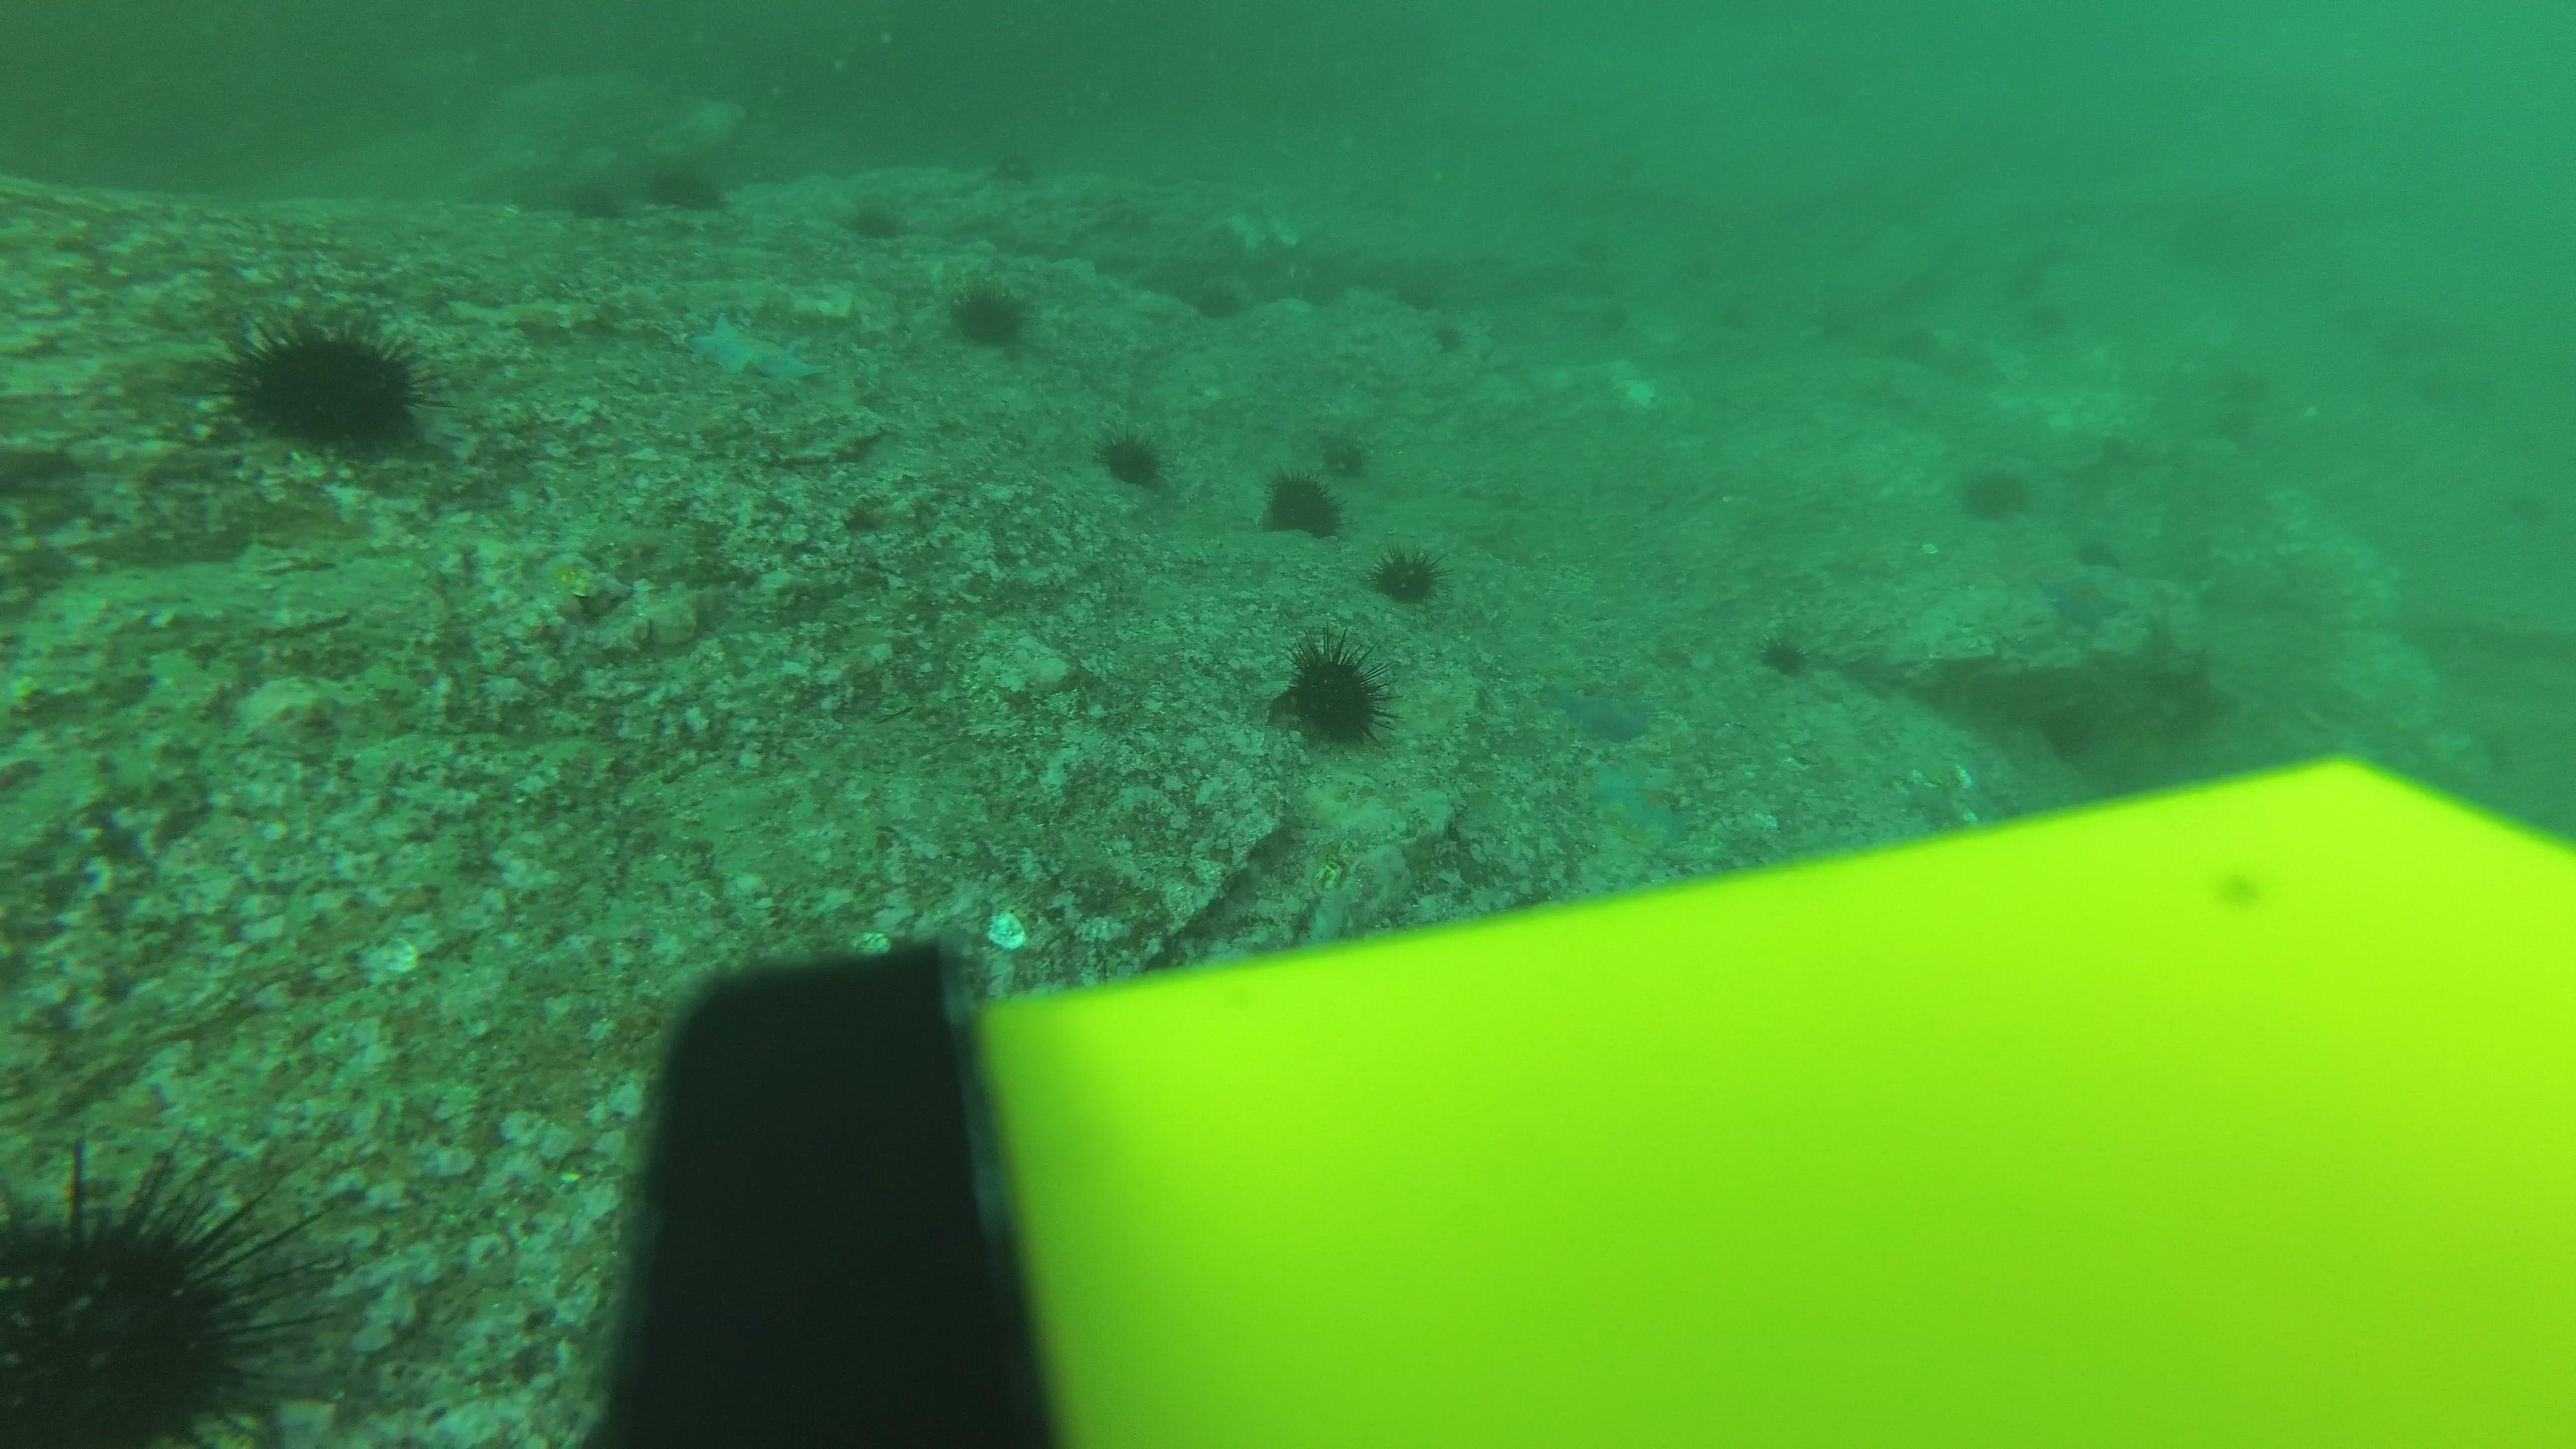echinus: (2, 1139, 326, 1440), (221, 311, 435, 458), (1276, 637, 1392, 750), (947, 274, 1033, 350), (1260, 465, 1345, 541), (1951, 467, 2029, 534), (646, 152, 727, 214), (1371, 541, 1445, 607), (1095, 425, 1166, 490), (2035, 697, 2102, 763), (1311, 426, 1369, 488), (1755, 623, 1813, 679), (564, 170, 625, 223), (842, 193, 904, 242), (1189, 274, 1251, 324), (985, 142, 1042, 189), (1884, 322, 1941, 370), (2026, 294, 2082, 341), (2210, 402, 2266, 448), (2001, 267, 2058, 313), (1799, 301, 1856, 347), (1704, 303, 1760, 349), (1585, 299, 1642, 345), (1412, 317, 1468, 363), (1385, 283, 1442, 329), (1292, 271, 1348, 317), (1564, 228, 1621, 274), (1592, 147, 1649, 193), (2089, 433, 2146, 479), (2079, 529, 2135, 575), (2505, 487, 2562, 533), (2505, 414, 2562, 460), (1891, 191, 1939, 235), (2220, 363, 2268, 407), (1831, 223, 1879, 265), (2456, 370, 2502, 409), (2417, 375, 2463, 414), (2373, 336, 2419, 375), (2318, 269, 2364, 308), (2348, 311, 2392, 350)
starfish: (683, 306, 826, 389), (1583, 759, 1695, 851), (1537, 672, 1658, 747), (2040, 568, 2128, 635)
